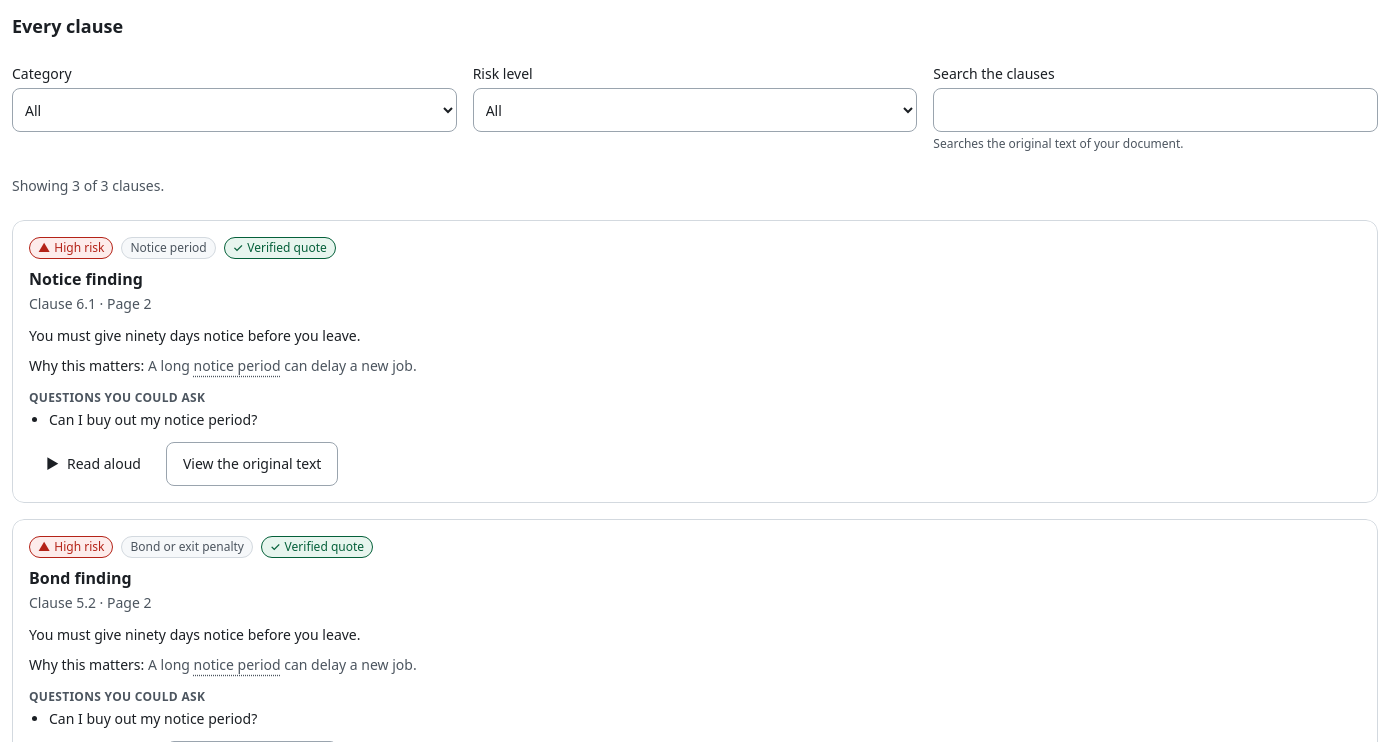
Test case: ClauseList › searches the original text with the same normalisation used for verification
This screenshot has width=1390, height=742.
In the search field labelled "Search the clauses": (1156, 110) [933, 88, 1378, 132], type "rs. 2,00,000"
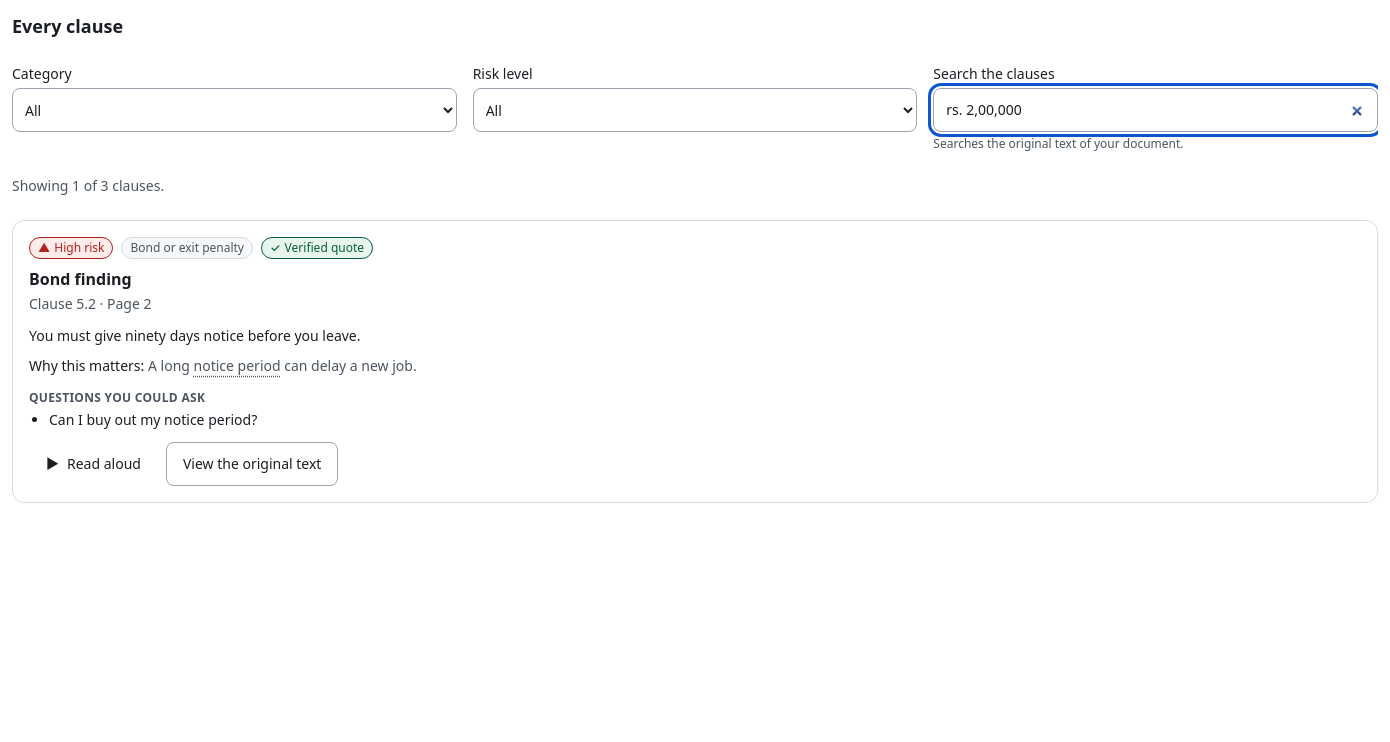
Check: the heading "Bond finding" is shown, box [29, 268, 132, 290]
Check: the heading "Notice finding" is gone
